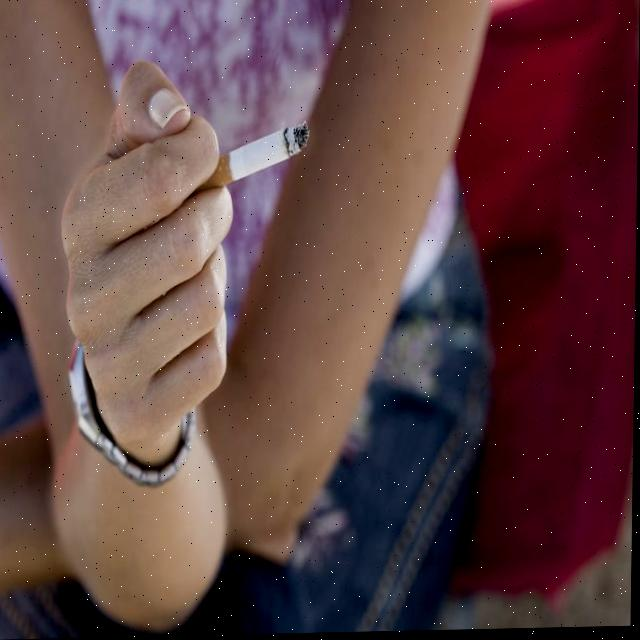cigarette: (203, 125, 311, 190)
